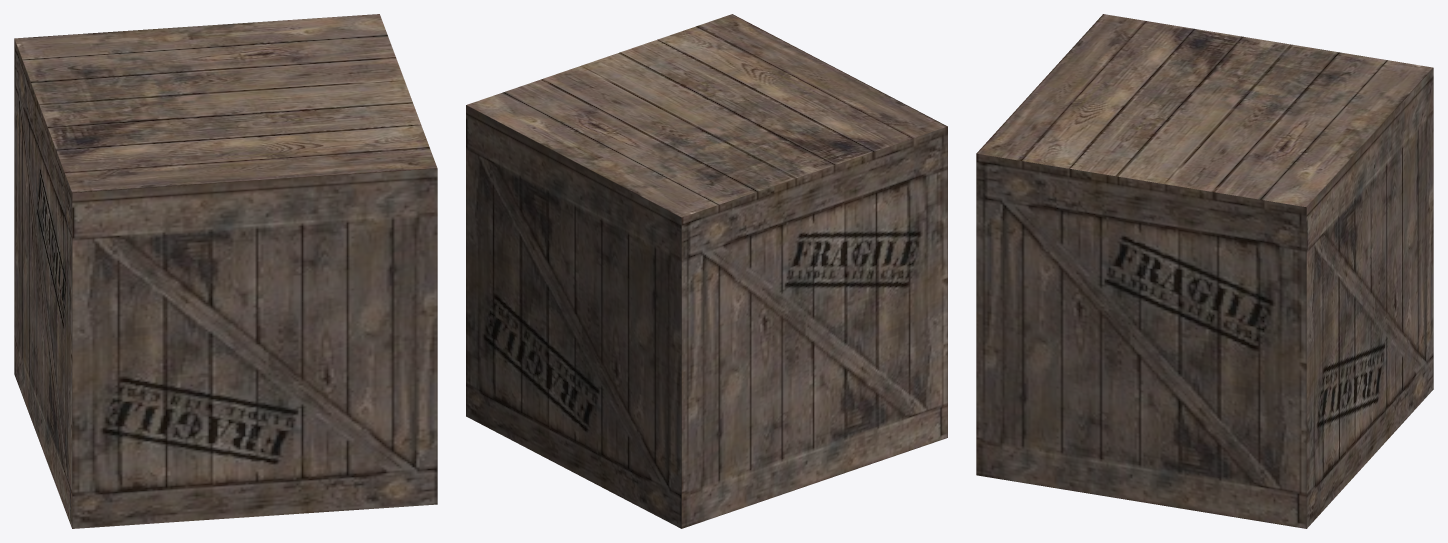
The model's file is Wooden_box_v1_LD1square.001.glb.
3 renders of one model, left to right at view 1: azimuth 30°, elevation 25°; view 2: azimuth 150°, elevation 25°; view 3: azimuth 270°, elevation 25°, orthographic. The views are drawn at different scales.
Parts seen in each view (by area): view 1: Wooden_box_v1_LD1square.001; view 2: Wooden_box_v1_LD1square.001; view 3: Wooden_box_v1_LD1square.001.
Boxes of the visible parts, box(x1,y1,x2,y2) form: Wooden_box_v1_LD1square.001: box(14, 14, 437, 528); Wooden_box_v1_LD1square.001: box(466, 14, 947, 528); Wooden_box_v1_LD1square.001: box(976, 14, 1433, 528).
Bounding box in the file's own units: 1.05 × 0.8124 × 1.05.
Materials: 1 (1 with a texture image).
